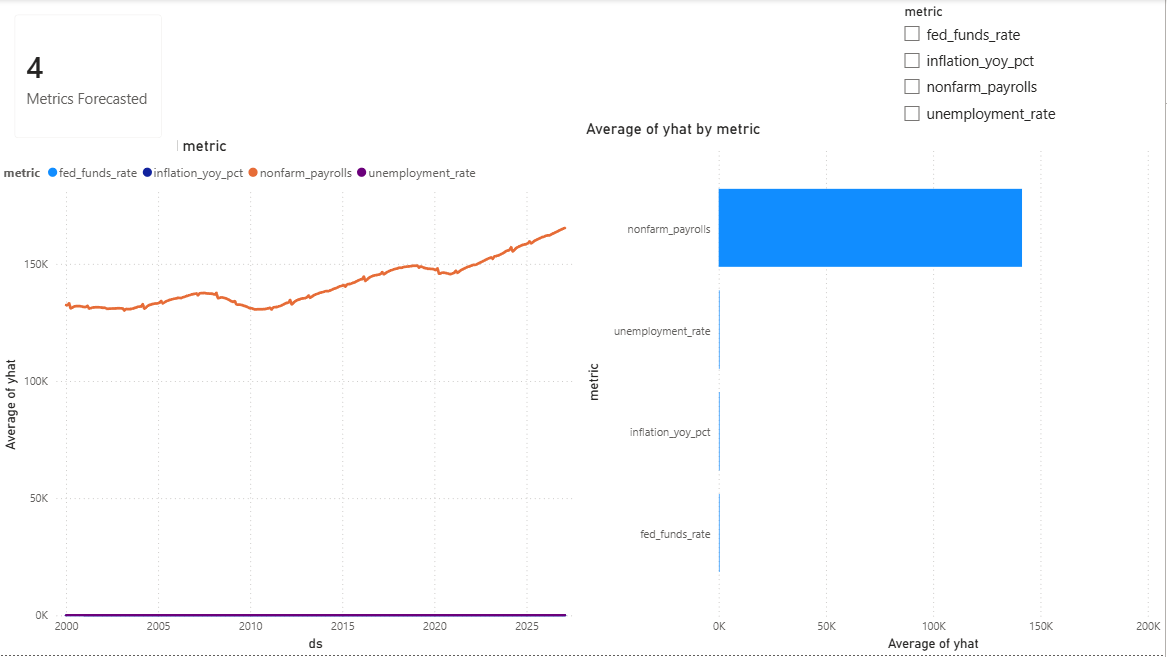

Layout of this report page (visuals, bound fields, positions):
{"tool":"powerbi","page":{"name":"12-Month Forecast","canvas":[1280,720],"ordinal":3},"visuals":[{"type":"lineChart","fields":{"Category":["forecast_results.ds"],"Y":["Avg(forecast_results.yhat)"],"Series":["forecast_results.metric"]},"box":[0,150.9,639.5,569.5],"z":0},{"type":"clusteredBarChart","fields":{"Category":["forecast_results.metric"],"Y":["Avg(forecast_results.yhat)"]},"box":[639.5,131.7,640.8,588.7],"z":1},{"type":"slicer","fields":{"Values":["forecast_results.metric"]},"box":[981.1,0,299.1,150.9],"z":2},{"type":"cardVisual","fields":{"Data":["forecast_results.Metrics Forecasted"]},"box":[0,0,196.2,170.2],"z":3}]}

Visuals, with their boxes in screenshot pixels (x1, y1, x2, y2), scaled from the page's 1280x720 canvas onto the 1167x657 screenshot:
lineChart - forecast_results.ds x Avg(forecast_results.yhat): [x1=0, y1=138, x2=583, y2=656]
clusteredBarChart - forecast_results.metric x Avg(forecast_results.yhat): [x1=583, y1=120, x2=1166, y2=656]
slicer - forecast_results.metric: [x1=894, y1=0, x2=1166, y2=138]
cardVisual - forecast_results.Metrics Forecasted: [x1=0, y1=0, x2=179, y2=155]
